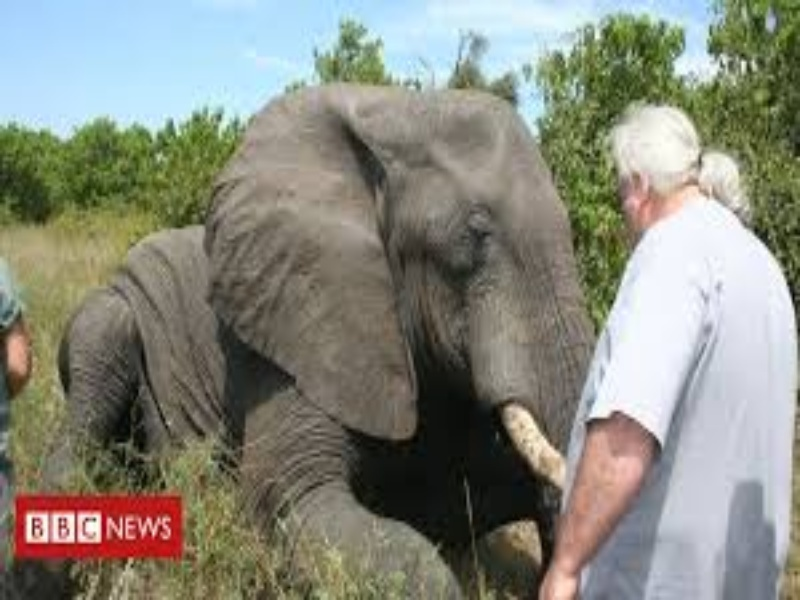elephant: (45, 43, 542, 547)
